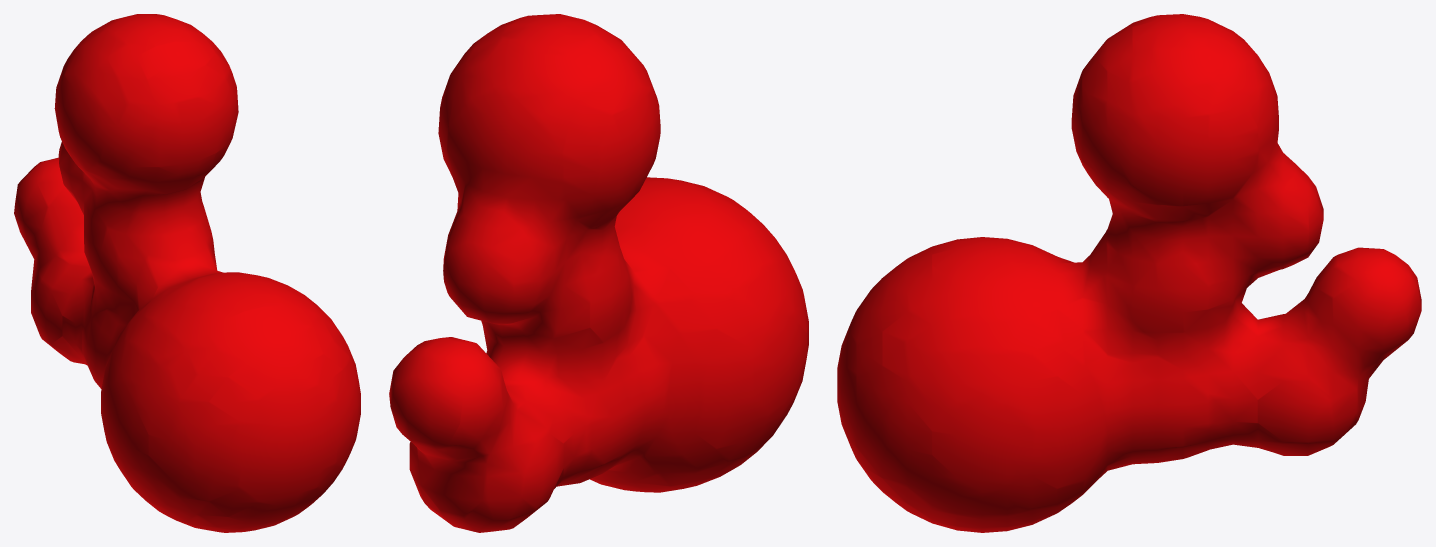
The model's file is blob.glb.
The picture shows the model from 3 angles, left to right: view 1: azimuth 30°, elevation 25°; view 2: azimuth 150°, elevation 25°; view 3: azimuth 270°, elevation 25°; orthographic projection. The views are drawn at different scales.
Parts seen in each view (by area): view 1: Mball.007; view 2: Mball.007; view 3: Mball.007.
Boxes of the visible parts, <box> form: Mball.007: <box>14,14,360,532</box>; Mball.007: <box>389,14,808,532</box>; Mball.007: <box>837,14,1421,532</box>.
Bounding box in the file's own units: 4.71 × 8.7 × 9.32.
